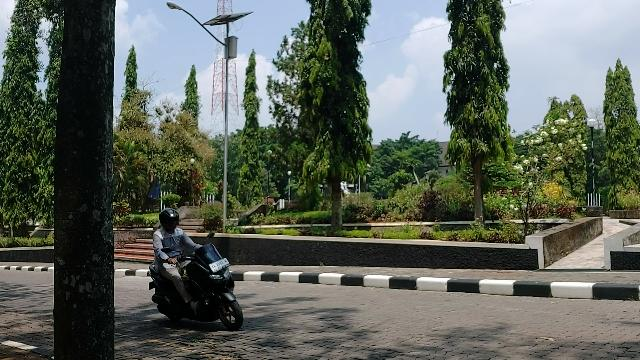helm: (161, 210, 182, 235)
motor: (149, 232, 245, 332)
